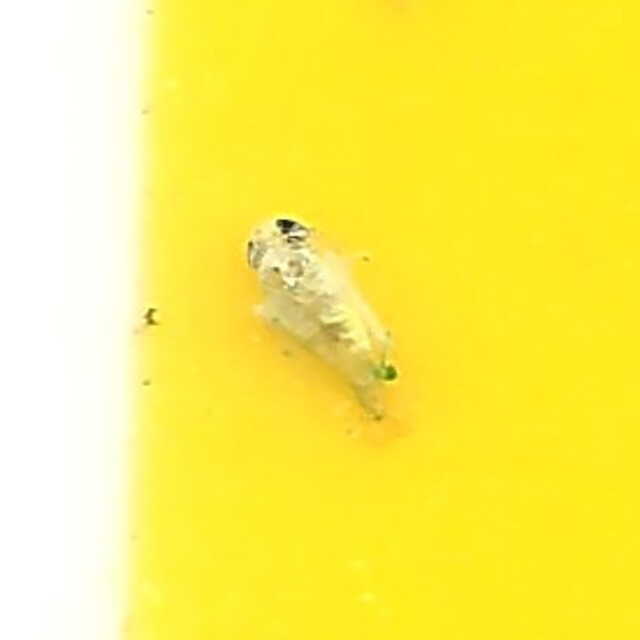Hemiptera: (232, 207, 408, 433)
